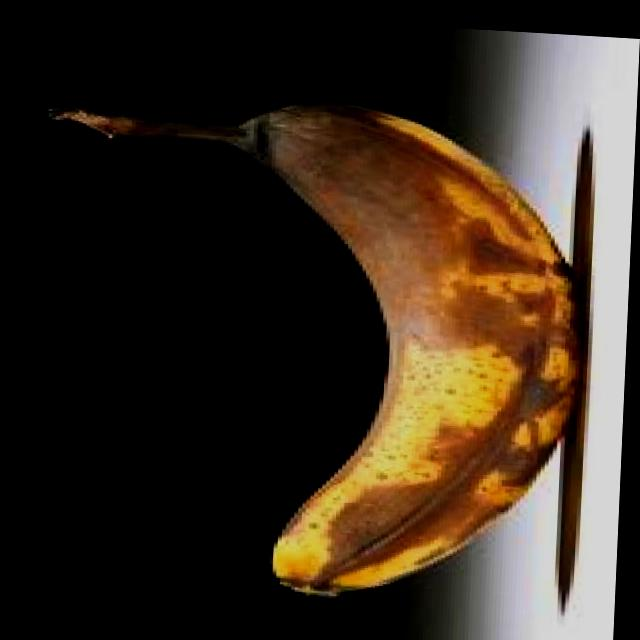banana: (22, 74, 605, 630)
